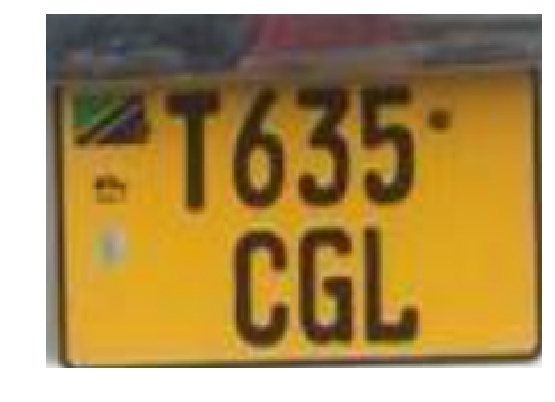T: (159, 82, 230, 221)
